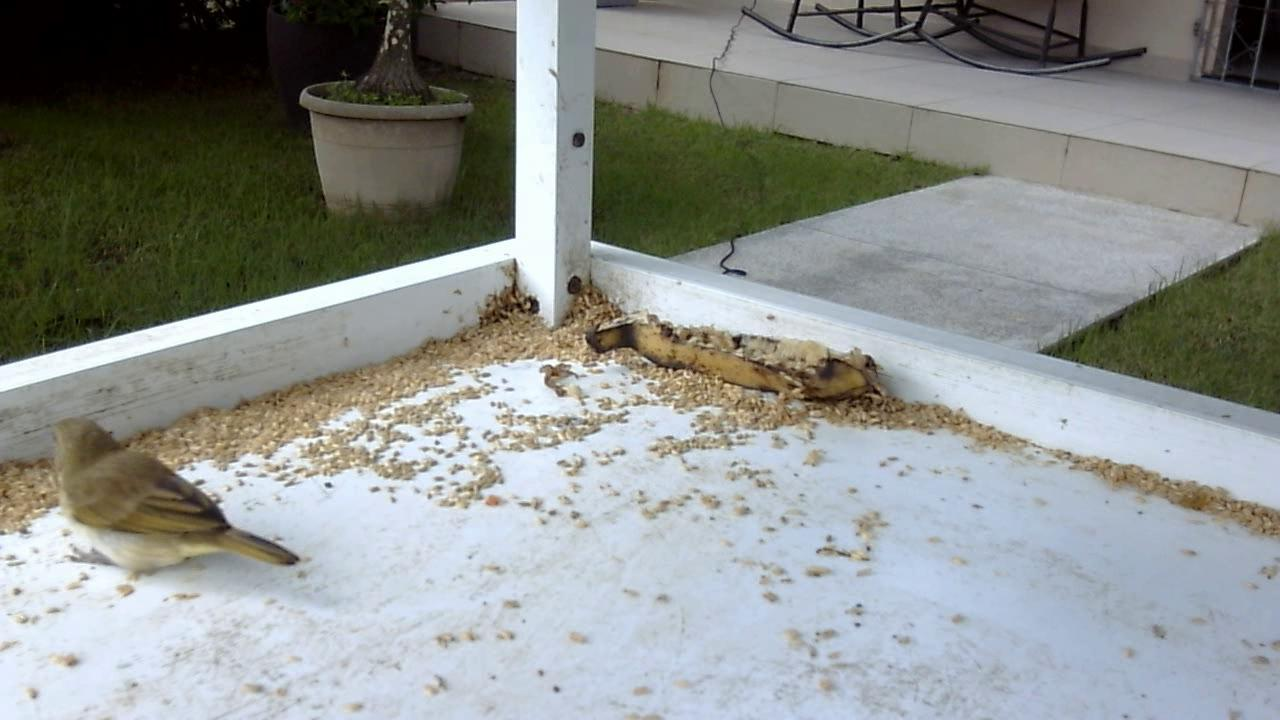canario_do_amazonas: (42, 403, 307, 598)
